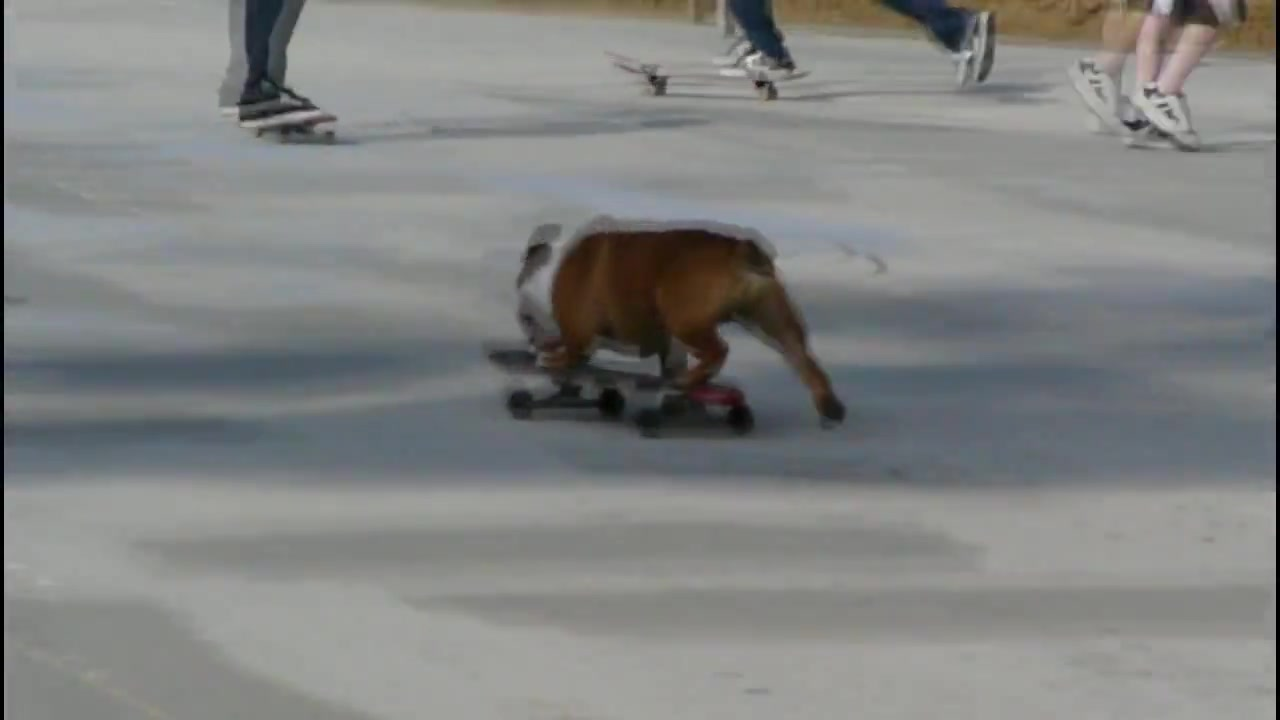dog: (508, 222, 848, 427)
